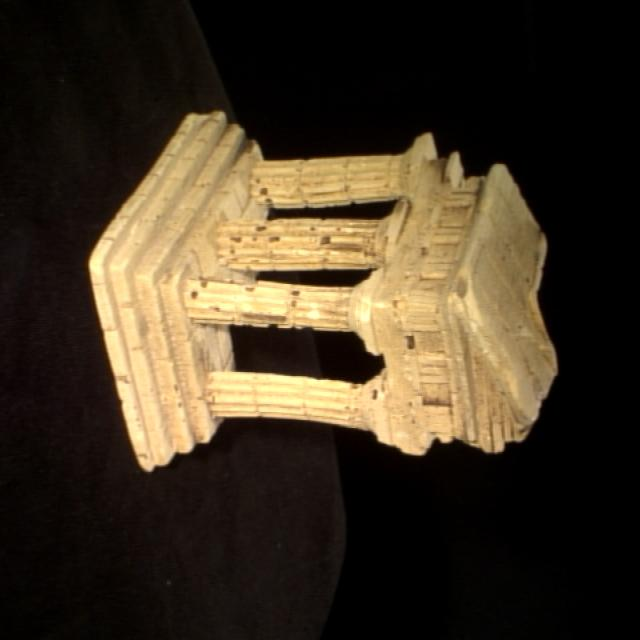Instance-Segmentation: (91, 112, 556, 469)
